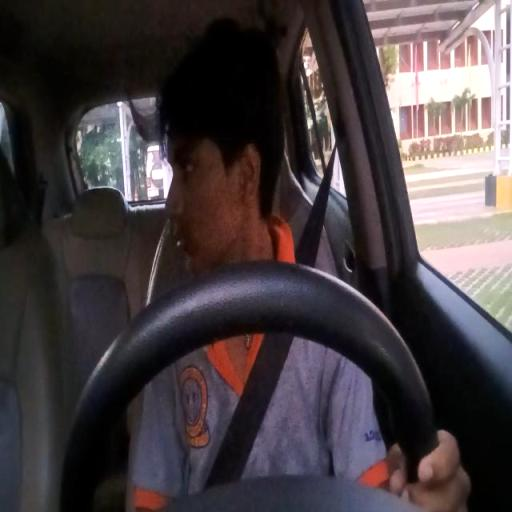Reaching_behind: (134, 29, 464, 503)
